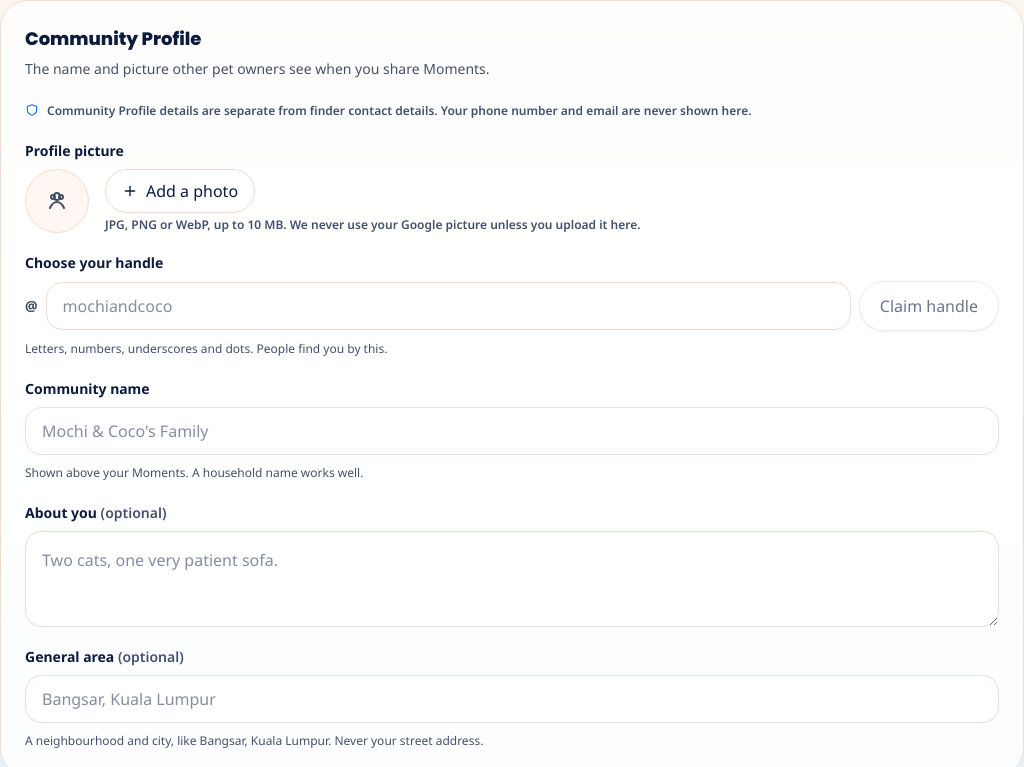
Test: SocialProfileSettings › refuses a general area that is really a street address
The image size is (1024, 767).
In the field with id "social-general-area-input": (512, 699) [25,675,999,723], type "No. 12, Jalan Maarof"
(page scrolled)
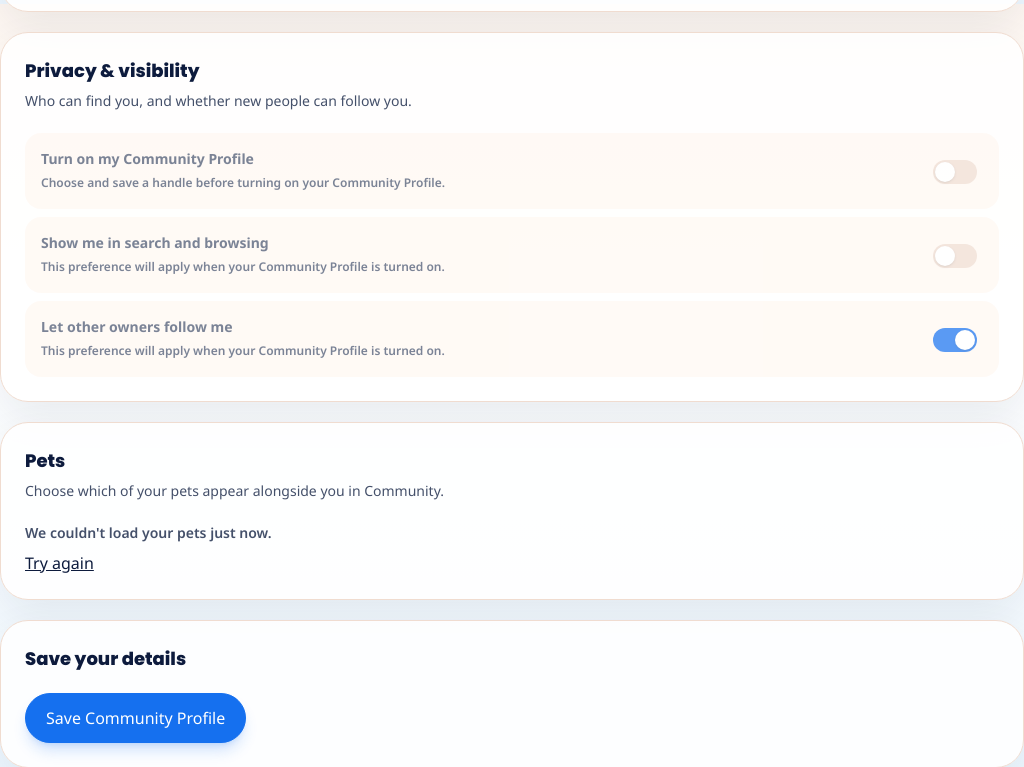
Click the button "Save Community Profile": (136, 718) [25,693,246,743]
(page scrolled)
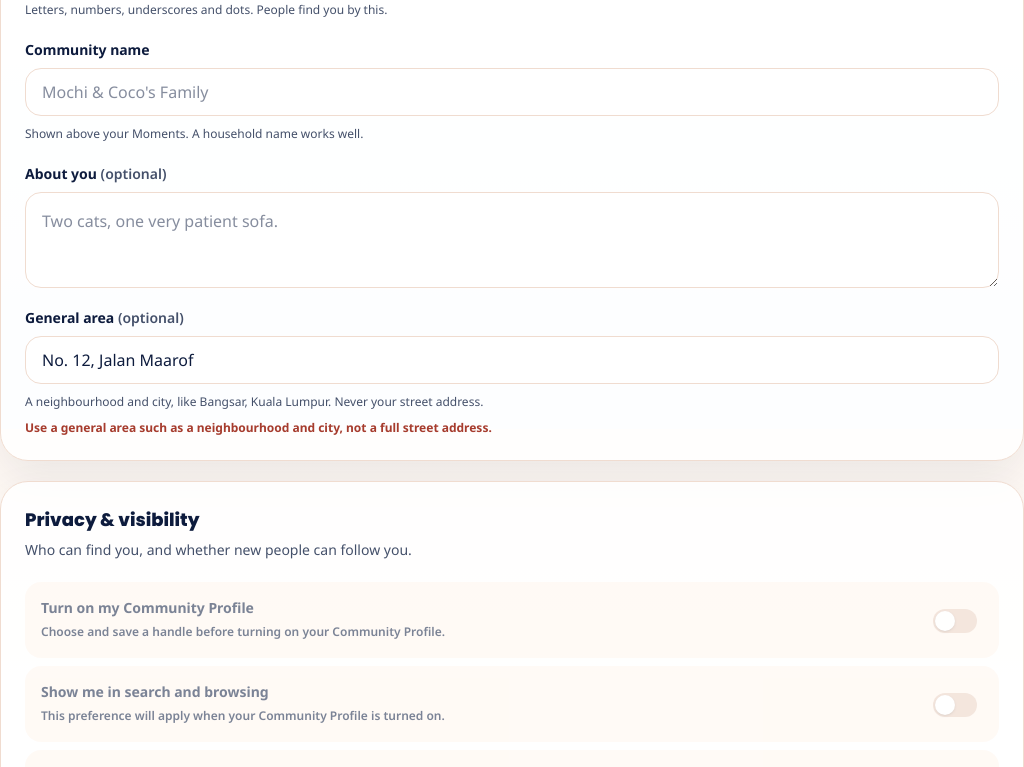
expect the text "not a full street address" is shown: met, box [25,419,492,436]
